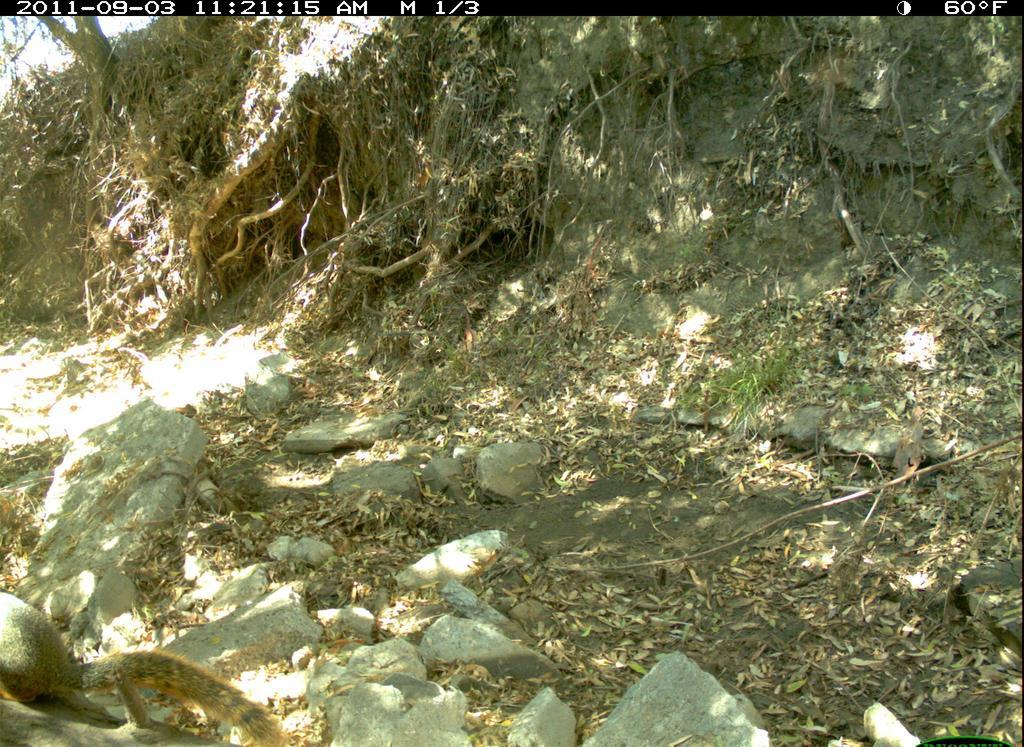squirrel: (2, 583, 294, 747)
